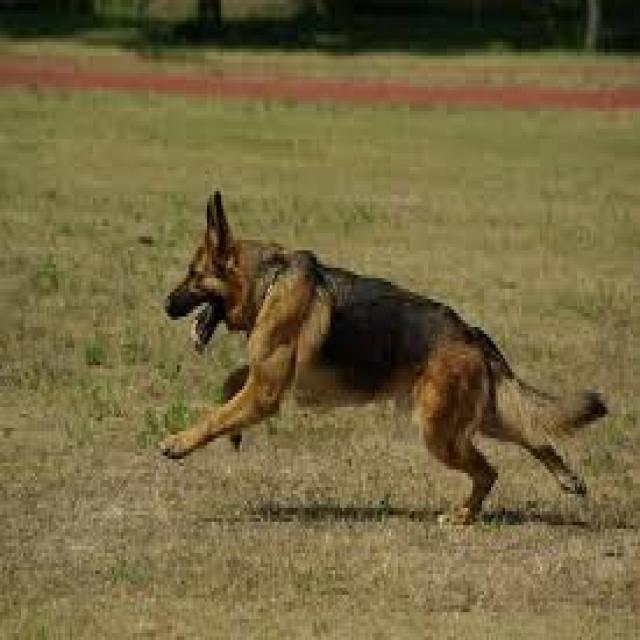Dog: (154, 185, 612, 533)
